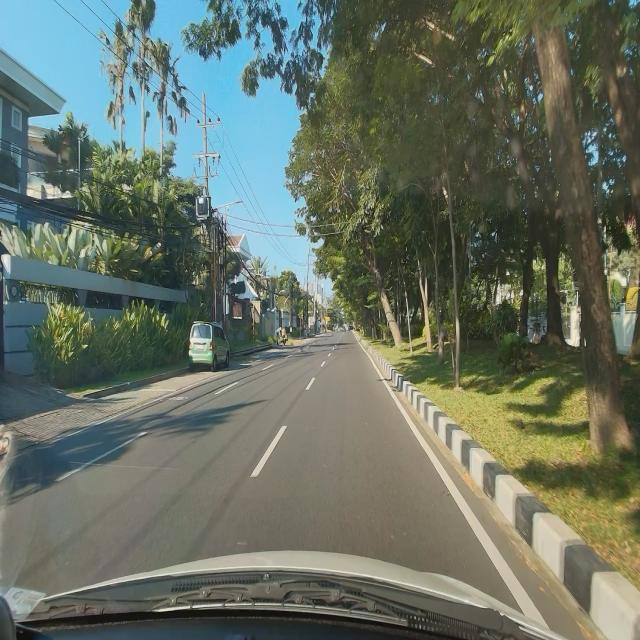car: (187, 319, 231, 373)
license-plate: (196, 344, 204, 350)
